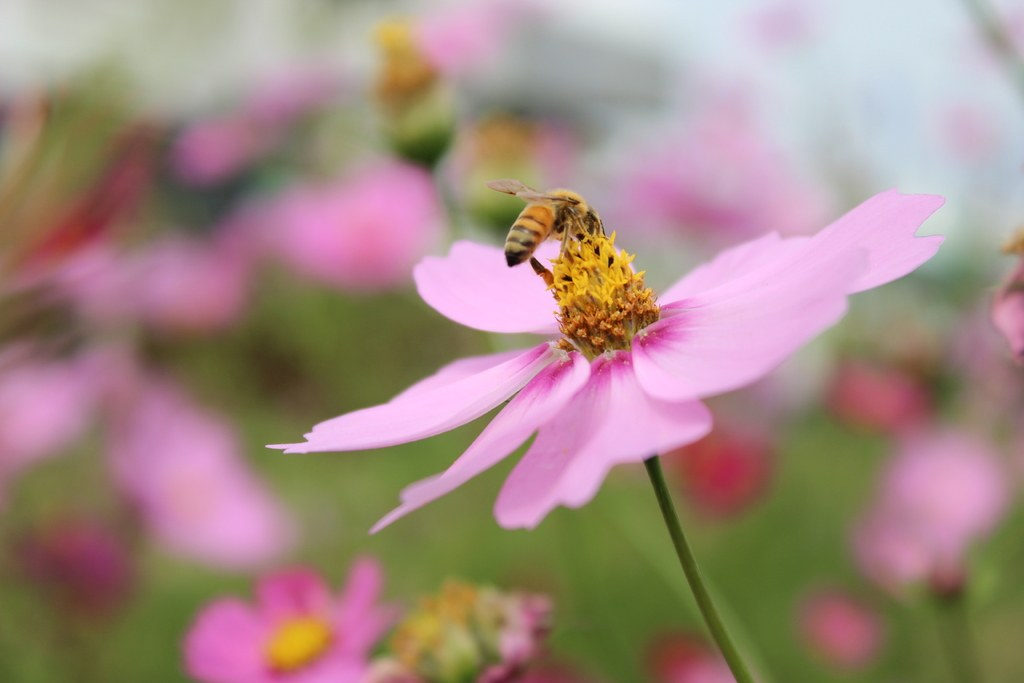bee: (490, 177, 587, 267)
